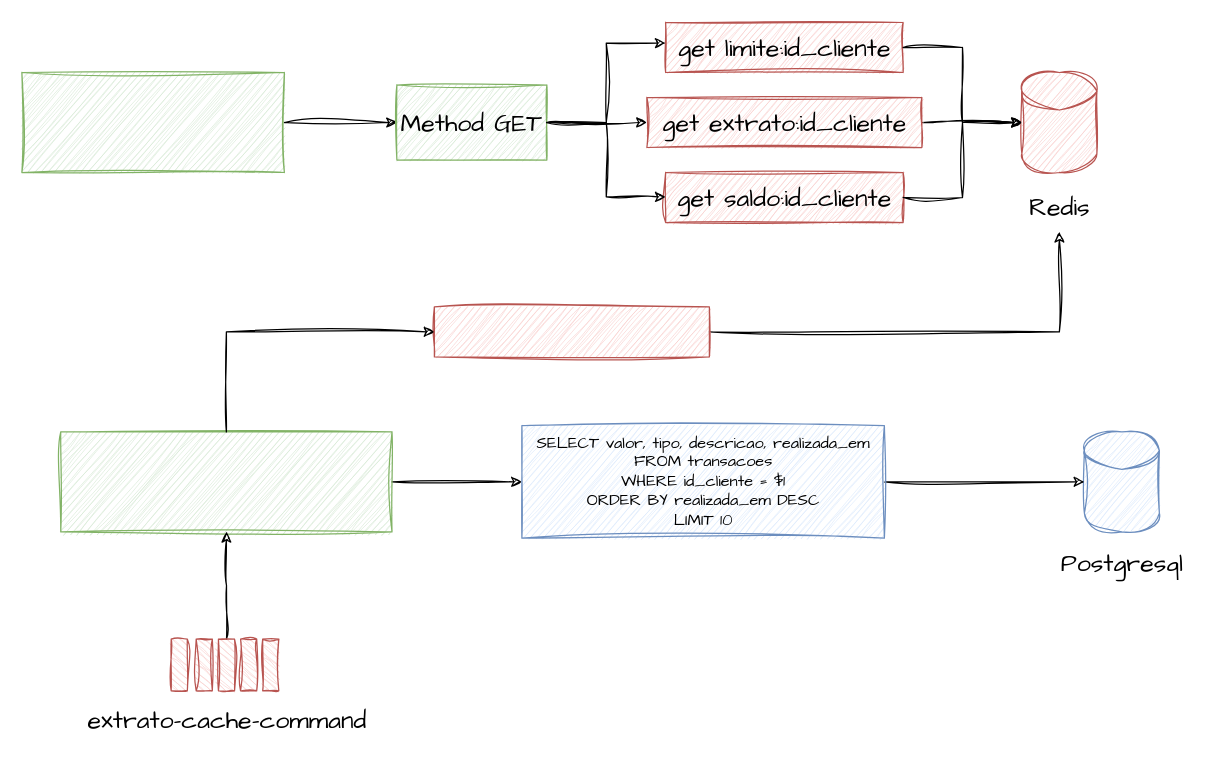
The diagram is 1219 pixels wide and 765 high, and some of its shapes have lost their labels. The box of each missing label's shape, as (x1, y1, x2, y2) in pixels:
http.HandleFunc /clientes: (21, 71, 284, 172)
Listener TransactionsExtratoCache: (60, 431, 392, 532)
set extrato:id_cliente: (433, 306, 709, 357)
